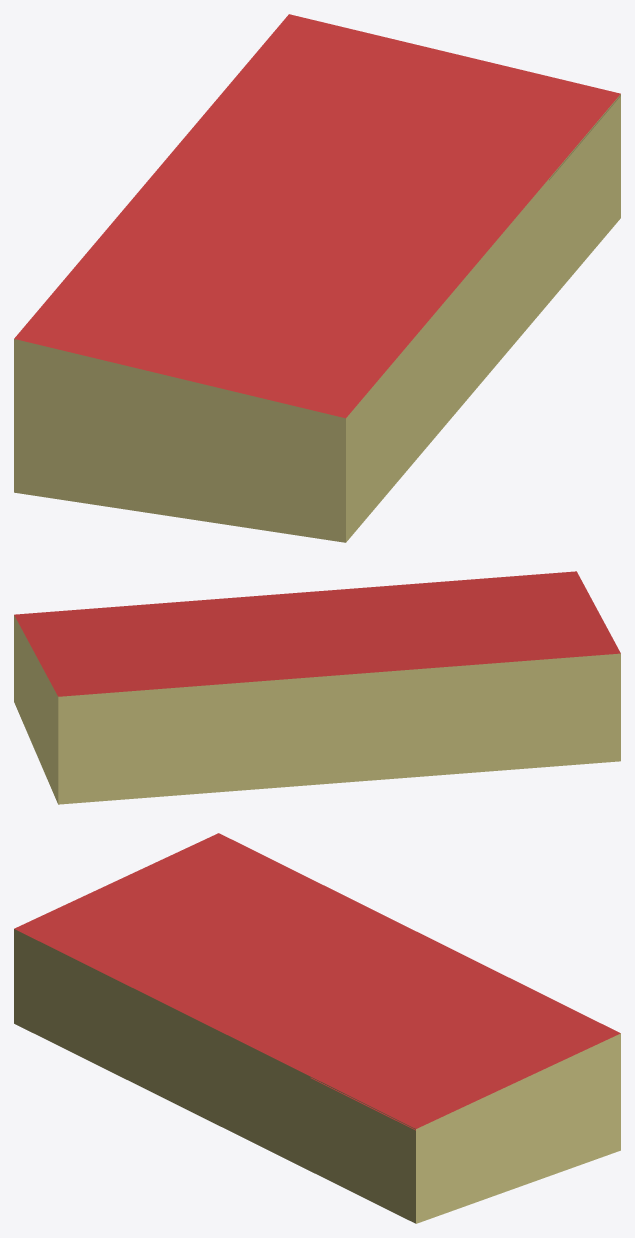
3 renders of one model, top to bottom at view 1: azimuth 30°, elevation 25°; view 2: azimuth 150°, elevation 25°; view 3: azimuth 270°, elevation 25°, orthographic. The views are drawn at different scales.
Size of the model in its own units: 63.61 by 59.59 by 12.69.
